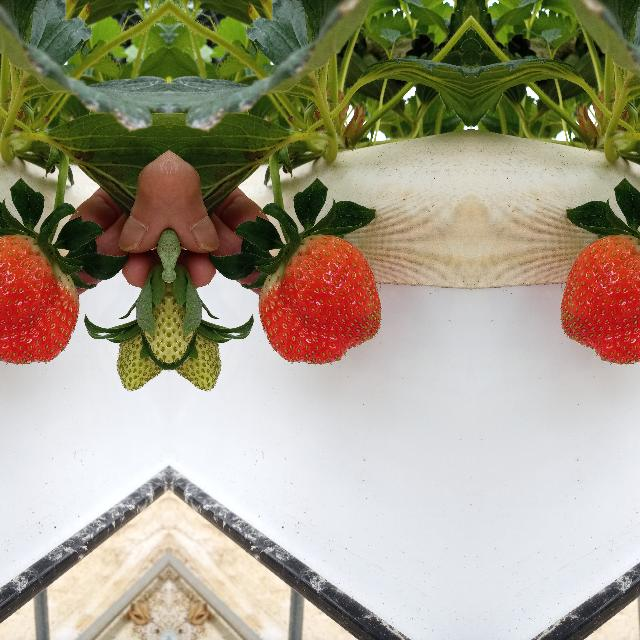Health_100: (256, 232, 382, 366), (559, 232, 640, 365), (0, 232, 79, 365)
